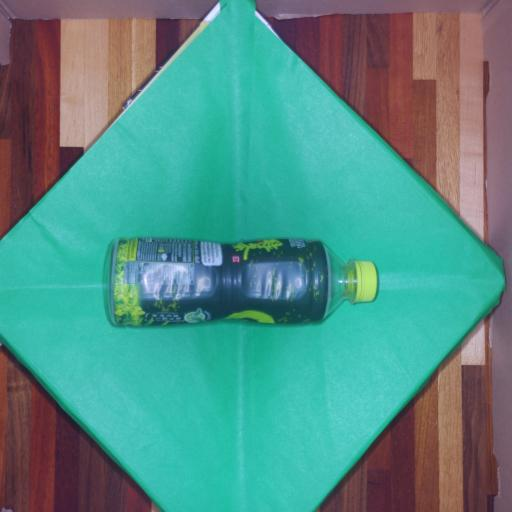bottle: (82, 212, 400, 344)
